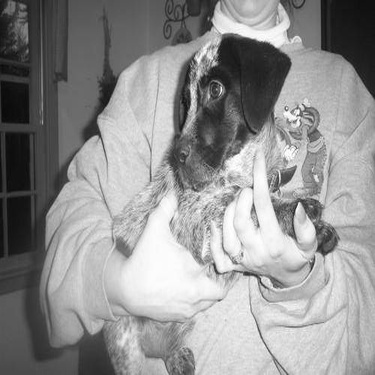dog: (78, 22, 345, 374)
